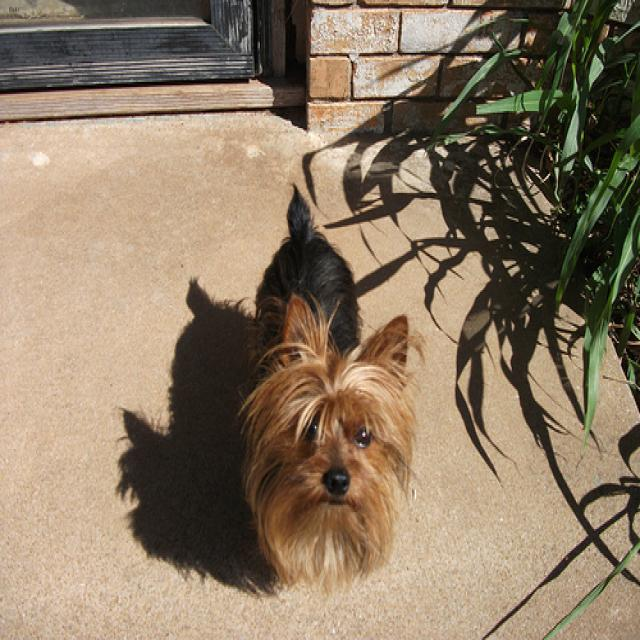dog-yorkshire_terrier: (230, 169, 431, 599)
